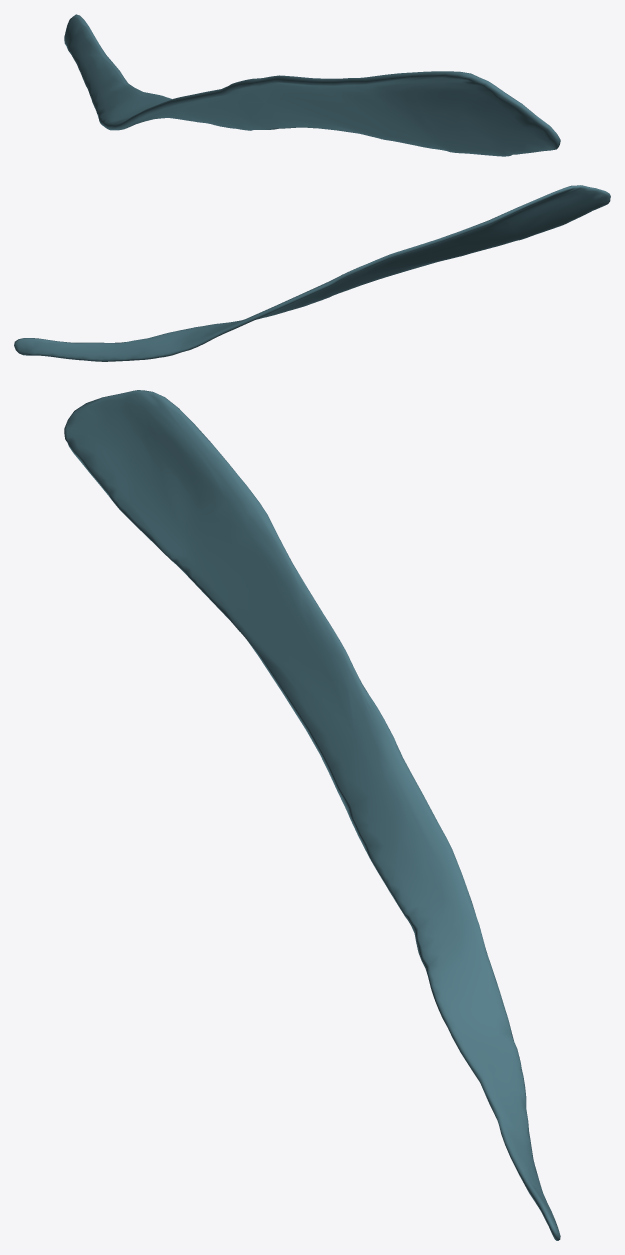
Rendered from Ascending_part_of_trapezius_muscle-Spinal_insertion.r_Generated.glb.
3 views of the same model, one above another, from view 1: azimuth 90°, elevation 25°; view 2: azimuth 150°, elevation 25°; view 3: azimuth 270°, elevation 25° (orthographic). The views are drawn at different scales.
Parts seen in each view (by area): view 1: Ascending_part_of_trapezius_muscle-Spinal_insertion.r_Genera; view 2: Ascending_part_of_trapezius_muscle-Spinal_insertion.r_Genera; view 3: Ascending_part_of_trapezius_muscle-Spinal_insertion.r_Genera.
Part boxes in pixels (bbox=[...]): Ascending_part_of_trapezius_muscle-Spinal_insertion.r_Genera: bbox=[64, 14, 560, 156]; Ascending_part_of_trapezius_muscle-Spinal_insertion.r_Genera: bbox=[14, 185, 610, 361]; Ascending_part_of_trapezius_muscle-Spinal_insertion.r_Genera: bbox=[64, 390, 560, 1240].
Size of the model in its own units: 0.0705 by 0.029 by 0.0318.
